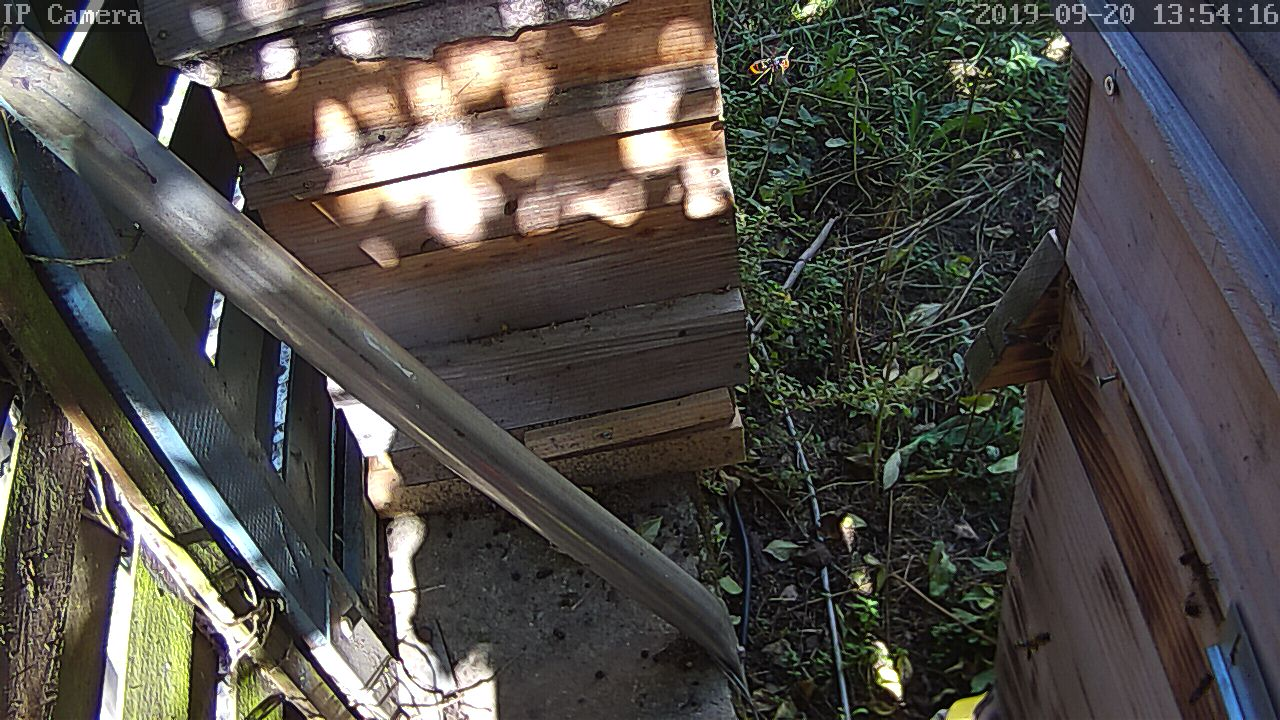bee: (1007, 621, 1053, 655)
hornet: (746, 43, 797, 86)
